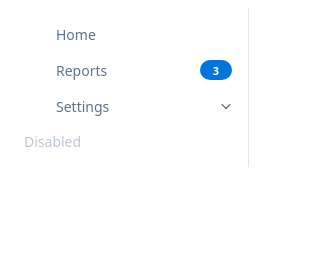
SideNav › expands children on click
Expected: the text "Account" is not shown
Click the button "Settings": (128,106) [8, 88, 248, 124]
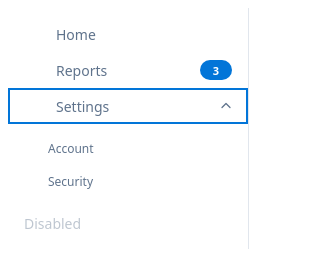
Now the text "Account" is shown, box [48, 140, 94, 157]
